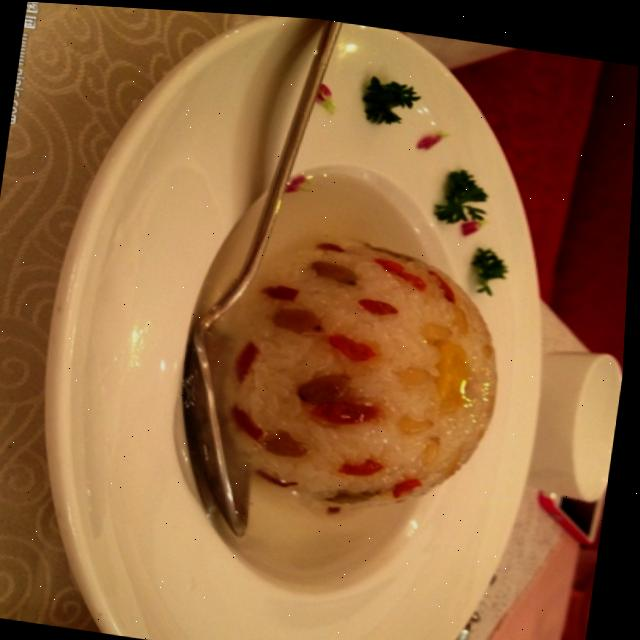米饭主食: (20, 58, 599, 640)
